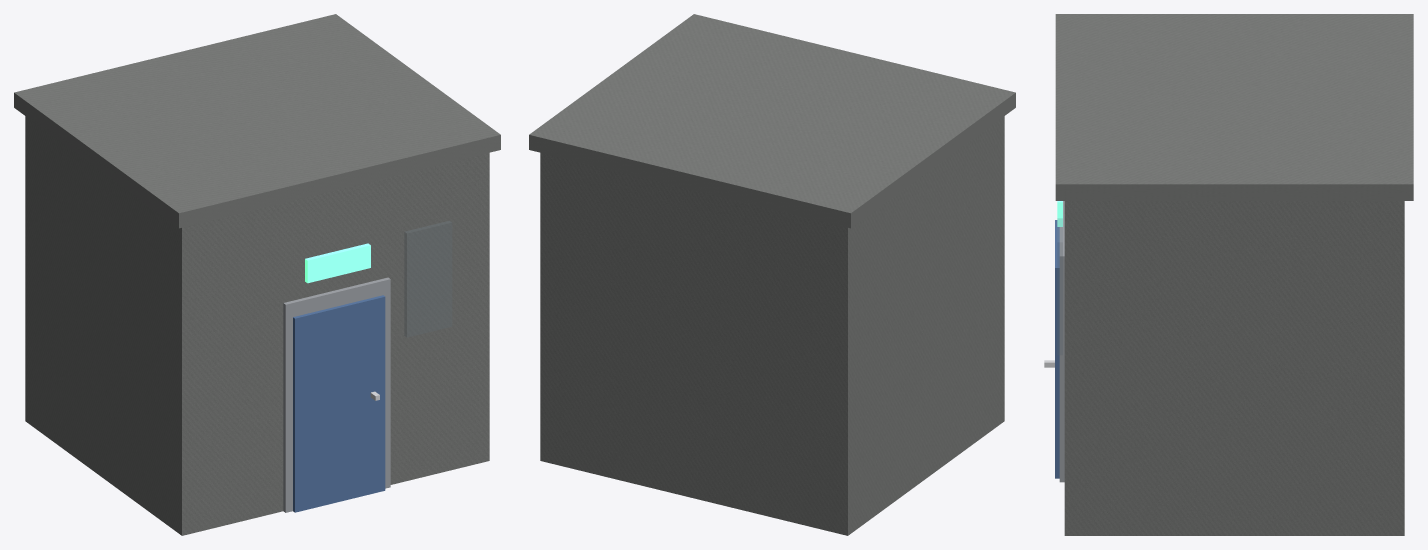
The model's file is car-park-and-road-vehicle-fleet-exit-stair-core-d4a3203b__32557.glb.
The picture shows the model from 3 angles, left to right: view 1: azimuth 30°, elevation 25°; view 2: azimuth 150°, elevation 25°; view 3: azimuth 270°, elevation 25°; orthographic projection. The views are drawn at different scales.
Parts seen in each view (by area): view 1: exit-stair-core, stair-door/paintB; view 2: exit-stair-core; view 3: exit-stair-core, stair-door/paintB.
Part boxes in pixels (left/top/right/bottom): exit-stair-core: left=14, top=14, right=500, bottom=535; stair-door/paintB: left=293, top=295, right=385, bottom=512; exit-stair-core: left=529, top=14, right=1015, bottom=535; exit-stair-core: left=1055, top=14, right=1413, bottom=535; stair-door/paintB: left=1055, top=220, right=1059, bottom=478.
Bounding box in the file's own units: 3.56 × 3.46 × 3.26.
6 materials, 1 textured.
